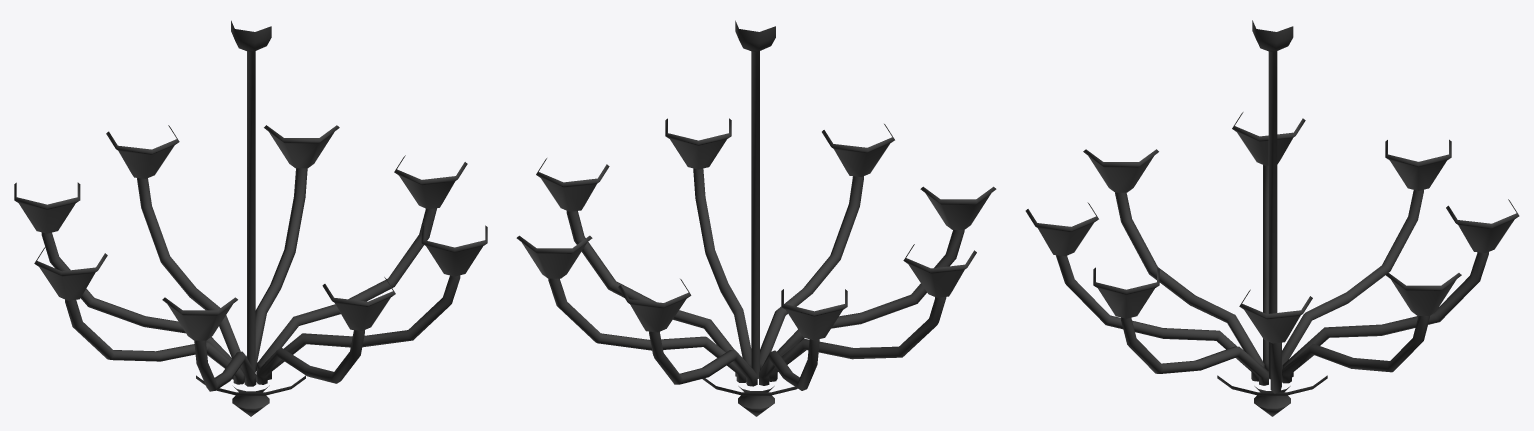
File: chandelier.glb
The picture shows the model from 3 angles, left to right: view 1: azimuth 30°, elevation 25°; view 2: azimuth 150°, elevation 25°; view 3: azimuth 270°, elevation 25°; orthographic projection.
Parts seen in each view (by area): view 1: Chandelier; view 2: Chandelier; view 3: Chandelier.
Boxes of the visible parts, left/top/right/bottom form: Chandelier: left=14, top=20, right=487, bottom=416; Chandelier: left=516, top=20, right=996, bottom=416; Chandelier: left=1025, top=20, right=1519, bottom=416.
Bounding box in the file's own units: 1.4 × 1.23 × 1.4.
1 material, 1 textured.
